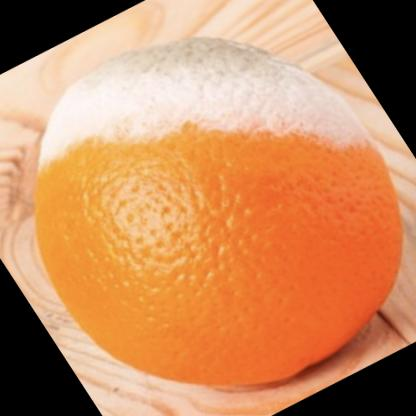rotten: (34, 37, 404, 393)
